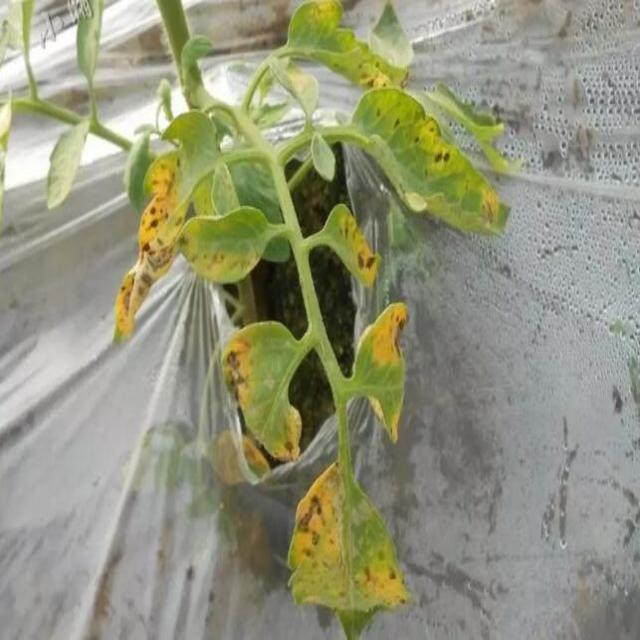Early_blight: (117, 157, 184, 337), (295, 463, 342, 557), (337, 211, 380, 287), (359, 552, 409, 609), (367, 303, 409, 370), (223, 332, 260, 401), (272, 410, 303, 462), (427, 146, 454, 168)
